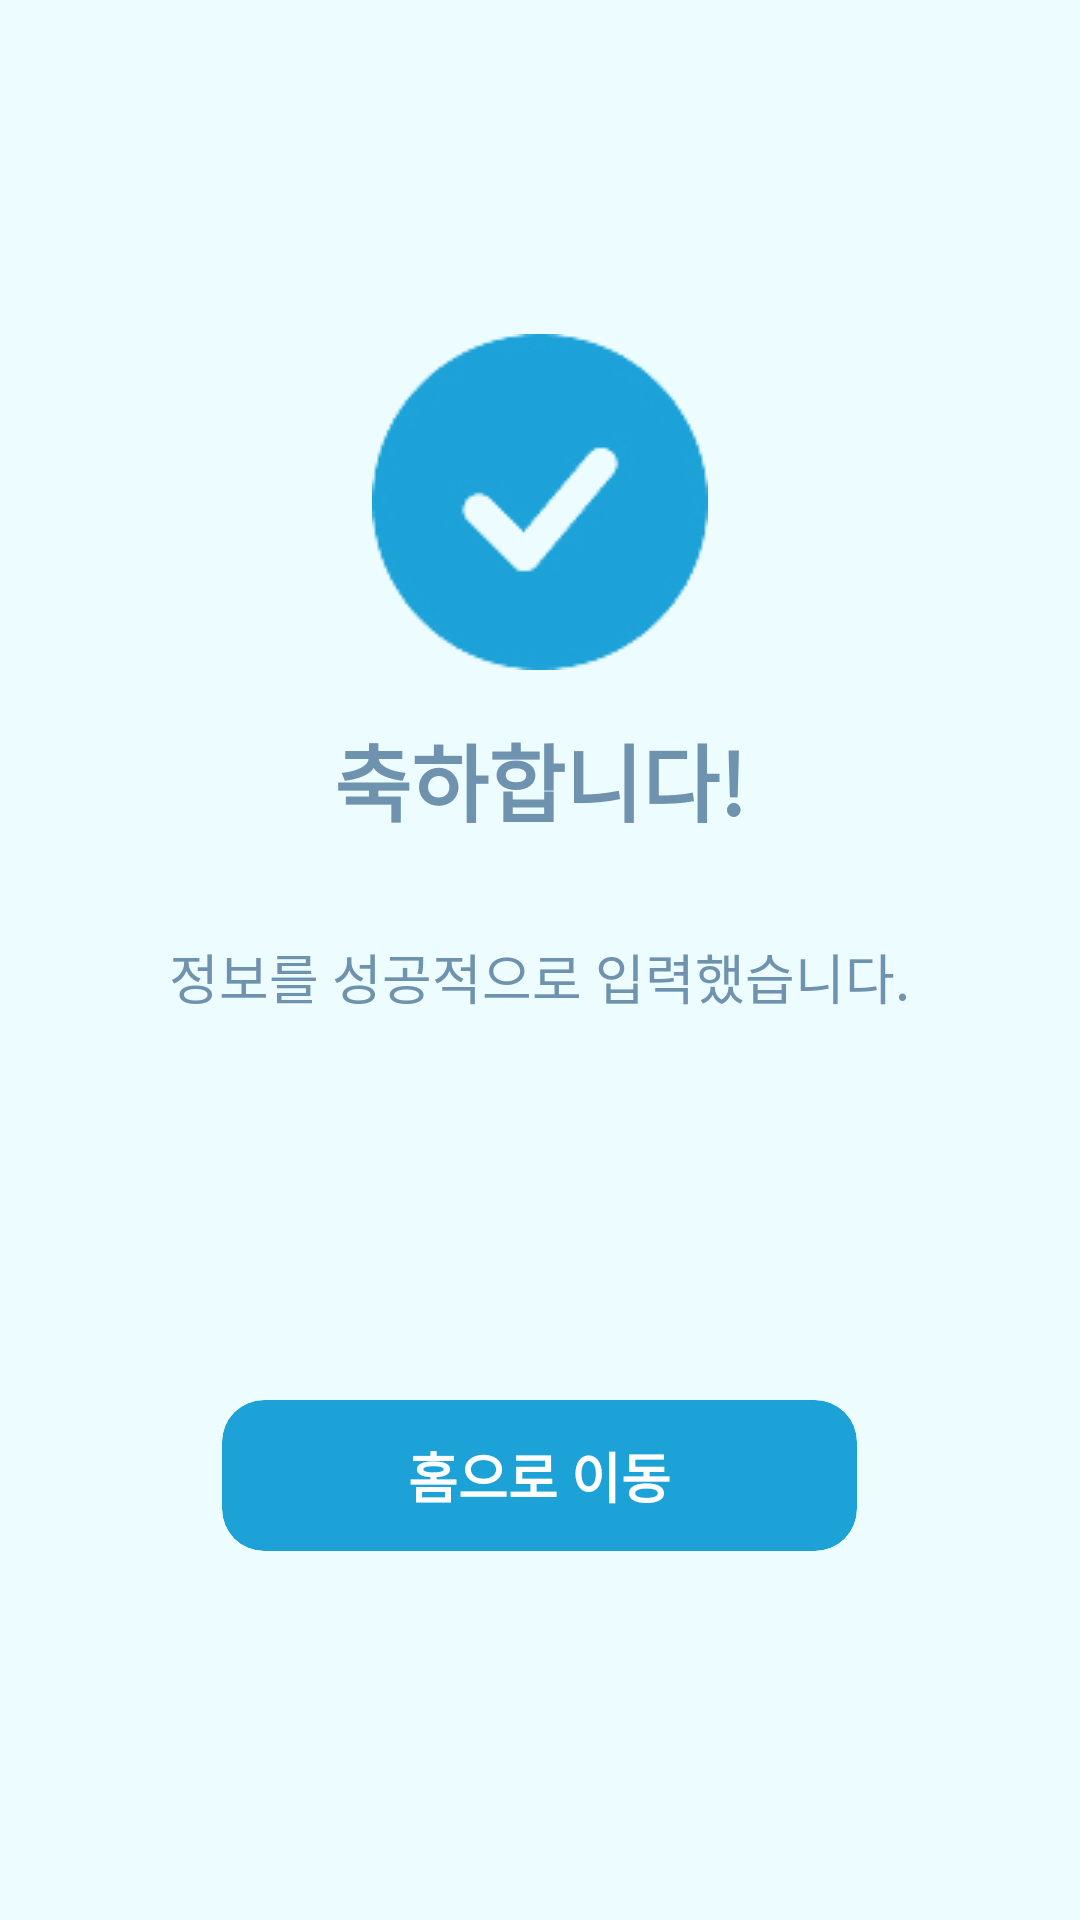

Icons on this 1080px×1920px Android screen, each with the point to tap as (x=x, y=y):
성공: (x=540, y=502)
